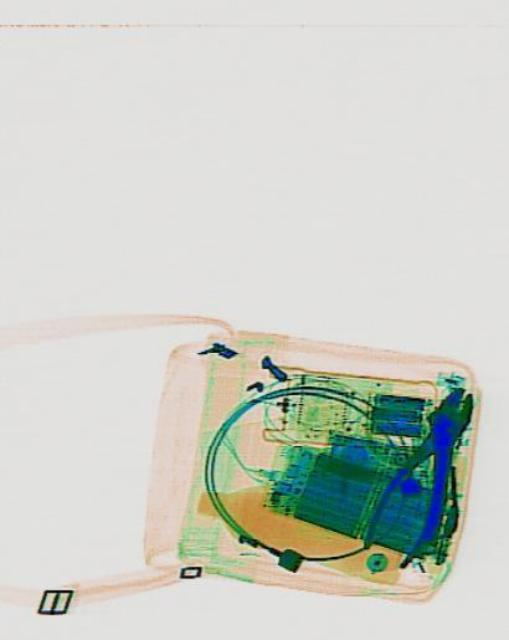Pliers: (352, 370, 492, 578)
